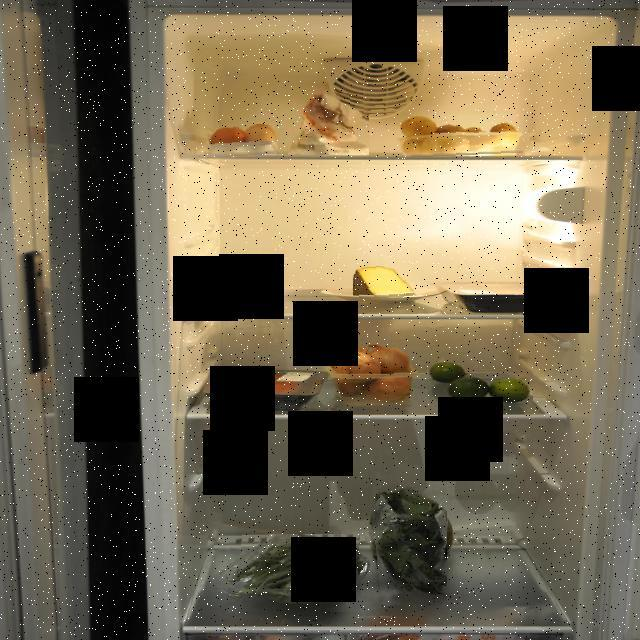beef: (214, 366, 307, 408)
blueberries: (204, 282, 278, 308)
cheese: (353, 266, 416, 300)
eggs: (208, 124, 284, 158)
flour: (288, 90, 369, 156)
green_beans: (228, 534, 360, 616)
lime: (426, 360, 533, 406)
onion: (324, 342, 418, 408)
potato: (400, 114, 524, 158)
spinach: (370, 482, 448, 606)
